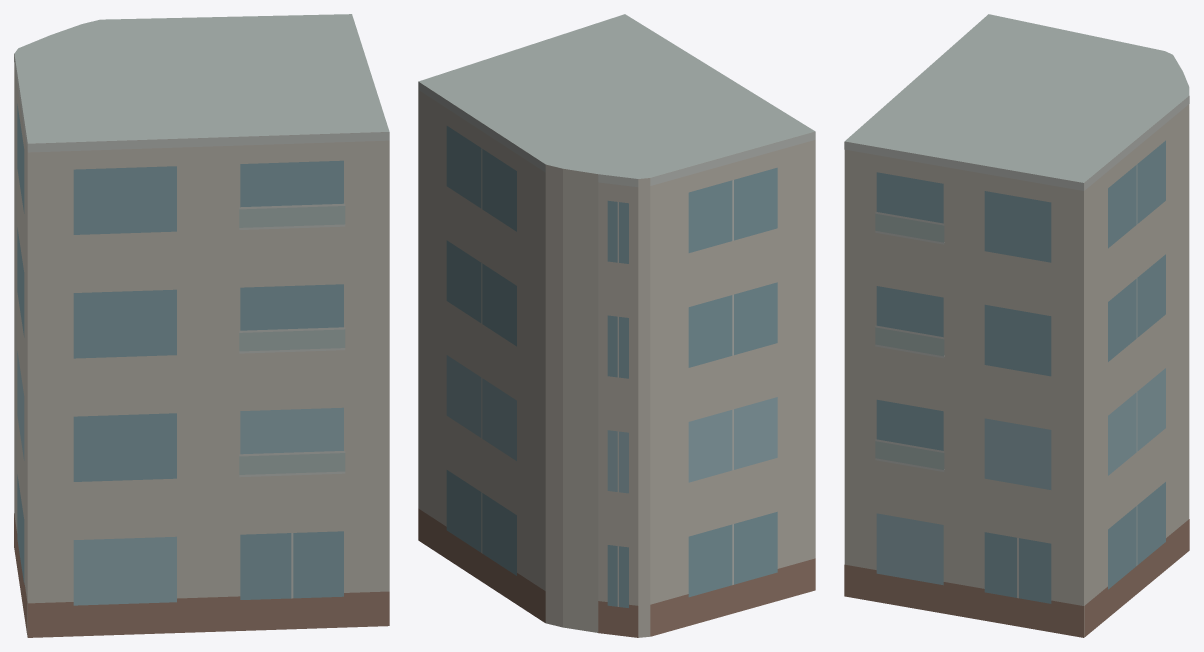
File: survey-upis-33012486.glb
3 renders of one model, left to right at view 1: azimuth 30°, elevation 25°; view 2: azimuth 150°, elevation 25°; view 3: azimuth 270°, elevation 25°, orthographic. The views are drawn at different scales.
Visible parts, largest first — view 1: survey-upis-33012486.tmp; view 2: survey-upis-33012486.tmp; view 3: survey-upis-33012486.tmp.
Part boxes in pixels (x1,y1,x2,y2): survey-upis-33012486.tmp: (14,14,389,637); survey-upis-33012486.tmp: (418,14,815,637); survey-upis-33012486.tmp: (844,14,1189,637).
Size of the model in its own units: 10.84 by 13.6 by 9.36.
